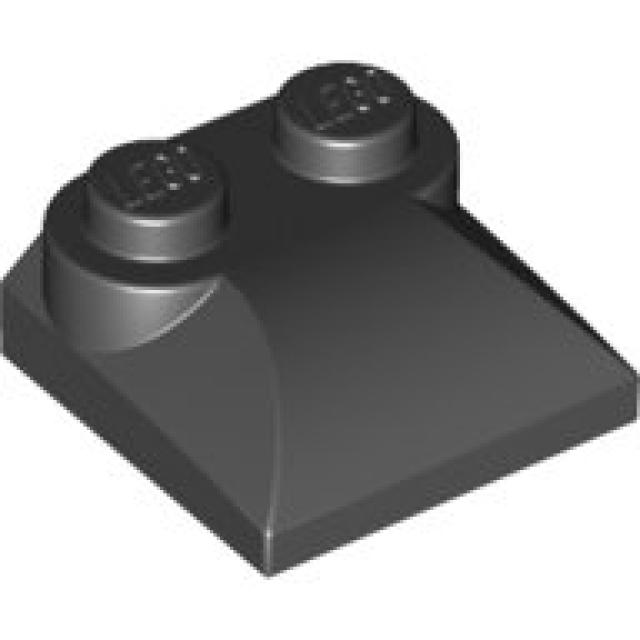Black_Small: (3, 63, 640, 580)
